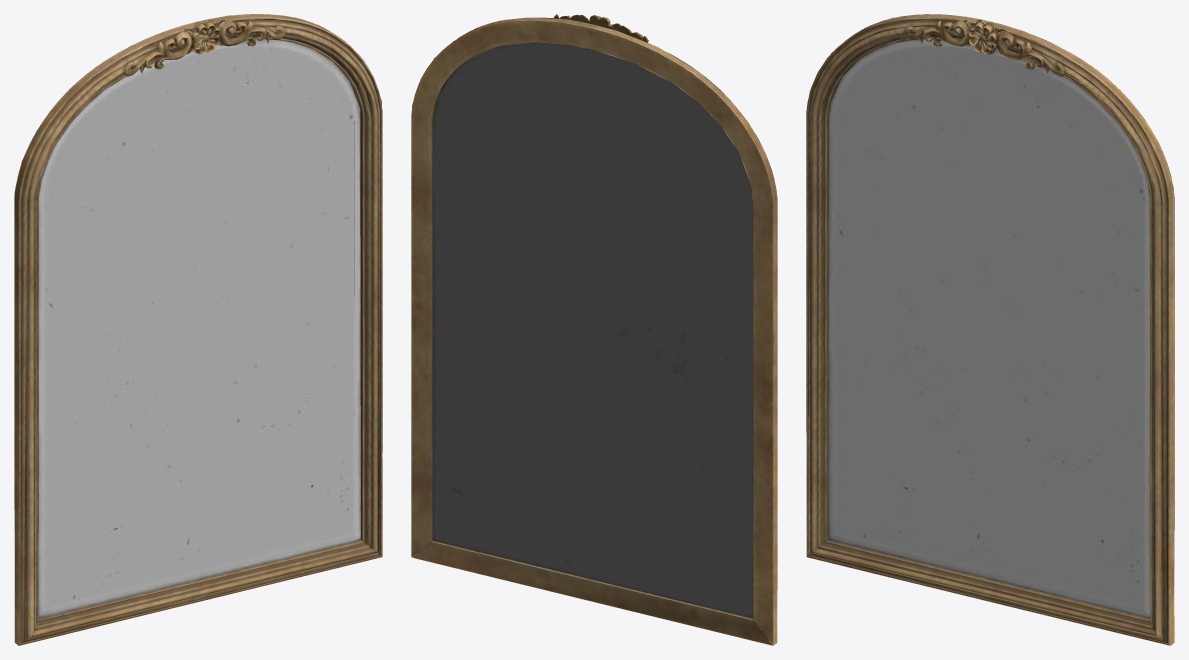
The model's file is ph_ornate_mirror_01.glb.
3 views of the same model, side by side, from view 1: azimuth 30°, elevation 25°; view 2: azimuth 150°, elevation 25°; view 3: azimuth 330°, elevation 25° (orthographic).
Visible parts, largest first — view 1: ornate_mirror_01; view 2: ornate_mirror_01; view 3: ornate_mirror_01.
Part boxes in pixels (box(x1,y1,x2,y2)): ornate_mirror_01: box(14, 14, 382, 645); ornate_mirror_01: box(411, 14, 777, 645); ornate_mirror_01: box(806, 14, 1174, 645).
Bounding box in the file's own units: 0.4863 × 0.7441 × 0.026.
Materials: 1 (1 with a texture image).
